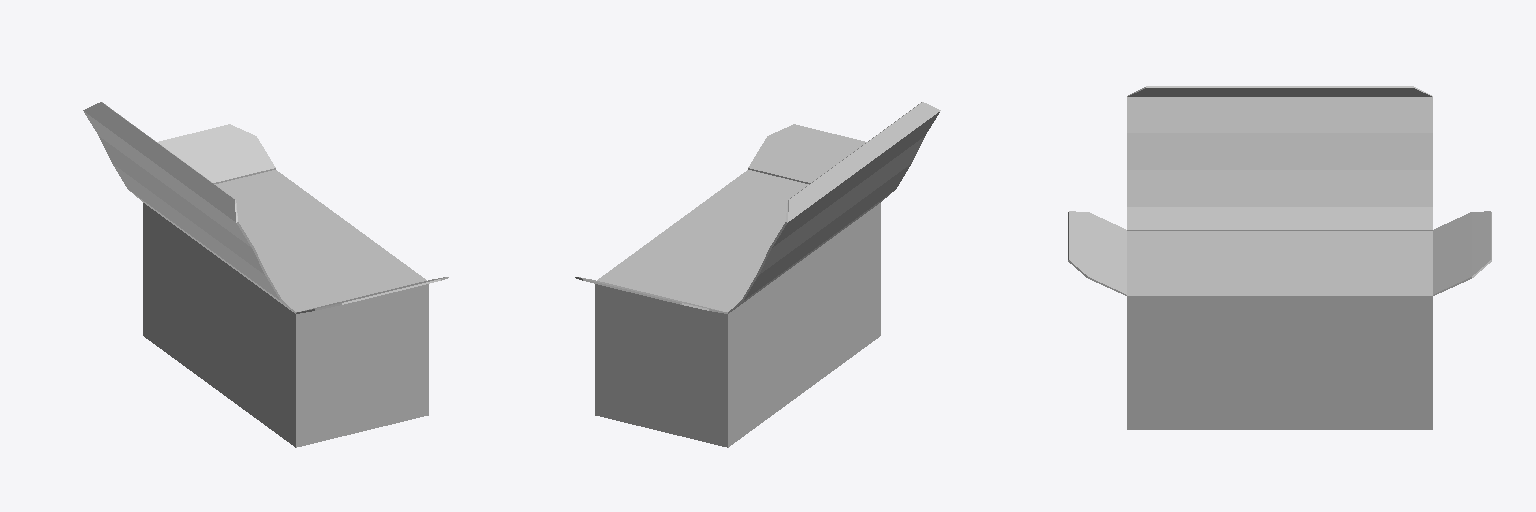
Rendered from ammo_box_1_1.obj.
3 renders of one model, left to right at view 1: azimuth 30°, elevation 25°; view 2: azimuth 150°, elevation 25°; view 3: azimuth 270°, elevation 25°, orthographic.
Visible parts, largest first — view 1: ammo_box_1_1; view 2: ammo_box_1_1; view 3: ammo_box_1_1.
Part boxes in pixels (x1,y1,x2,y2): ammo_box_1_1: (83, 102, 448, 447); ammo_box_1_1: (575, 102, 940, 447); ammo_box_1_1: (1068, 86, 1491, 429).
Size of the model in its own units: 0.0843 by 0.1059 by 0.1606.